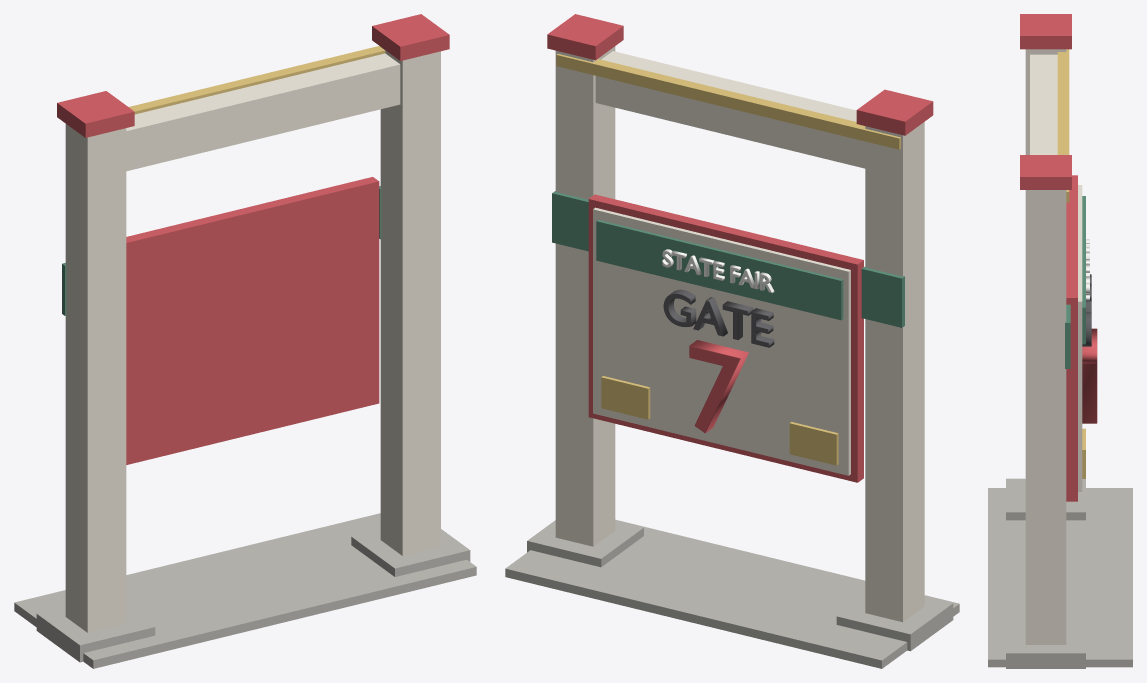
Rendered from state-fair-gate-07.glb.
3 views of the same model, side by side, from view 1: azimuth 30°, elevation 25°; view 2: azimuth 150°, elevation 25°; view 3: azimuth 270°, elevation 25° (orthographic). The views are drawn at different scales.
Parts seen in each view (by area): view 1: SFG_SignBack, SFG_PostL, SFG_PostR, SFG_Pad, SFG_HeaderBeam, SFG_FootingL, SFG_FootingR, SFG_PostCapL, SFG_PostCapR, SFG_HeaderAccent; view 2: SFG_SignFace, SFG_PostL, SFG_Pad, SFG_PostR, SFG_HeaderBeam, SFG_Ribbon, SFG_SignBack, SFG_HeaderAccent, SFG_FootingL, SFG_GateLabel, SFG_FootingR, SFG_PostCapL (+7 smaller); view 3: SFG_PostR, SFG_Pad, SFG_SignBack, SFG_FootingR, SFG_HeaderBeam, SFG_PostCapL, SFG_PostCapR, SFG_SignFace, SFG_HeaderAccent, SFG_FootingL, SFG_GateNumber, SFG_PostL (+4 smaller).
Boxes of the visible parts, <box> form: SFG_SignBack: <box>126,177,379,464</box>; SFG_PostL: <box>65,124,126,632</box>; SFG_PostR: <box>380,47,440,555</box>; SFG_Pad: <box>14,513,476,668</box>; SFG_HeaderBeam: <box>126,53,400,171</box>; SFG_FootingL: <box>36,606,155,662</box>; SFG_FootingR: <box>351,529,470,576</box>; SFG_PostCapL: <box>57,91,134,137</box>; SFG_PostCapR: <box>372,14,449,60</box>; SFG_HeaderAccent: <box>129,46,385,114</box>; SFG_SignFace: <box>593,207,850,475</box>; SFG_PostL: <box>865,122,924,622</box>; SFG_Pad: <box>505,519,959,668</box>; SFG_PostR: <box>555,46,615,546</box>; SFG_HeaderBeam: <box>595,51,865,168</box>; SFG_Ribbon: <box>596,220,843,320</box>; SFG_SignBack: <box>588,194,863,482</box>; SFG_HeaderAccent: <box>556,54,900,149</box>; SFG_FootingL: <box>836,596,953,651</box>; SFG_GateLabel: <box>663,289,774,347</box>; SFG_FootingR: <box>527,520,643,567</box>; SFG_PostCapL: <box>856,89,933,135</box>; SFG_PostR: <box>1025,190,1066,644</box>; SFG_Pad: <box>988,488,1132,667</box>; SFG_SignBack: <box>1066,175,1077,501</box>; SFG_FootingR: <box>1006,619,1085,668</box>; SFG_HeaderBeam: <box>1030,54,1057,154</box>; SFG_PostCapL: <box>1020,14,1071,49</box>; SFG_PostCapR: <box>1020,155,1071,189</box>; SFG_SignFace: <box>1078,185,1082,491</box>; SFG_HeaderAccent: <box>1057,49,1069,202</box>; SFG_FootingL: <box>1006,478,1085,520</box>; SFG_GateNumber: <box>1082,328,1097,423</box>; SFG_PostL: <box>1025,49,1066,154</box>.
Bounding box in the file's own units: 2.85 × 3.7 × 1.
